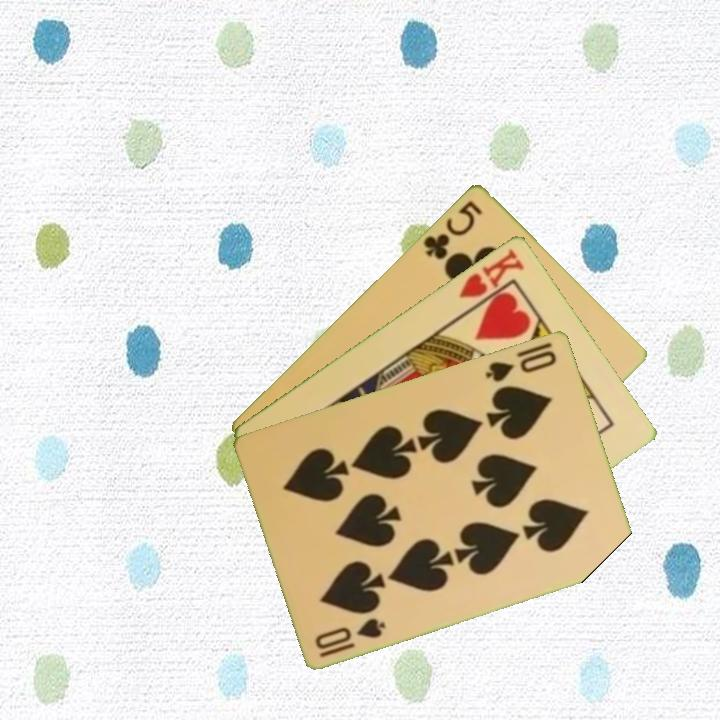10s: (482, 338, 560, 385), (311, 614, 389, 660)
5c: (420, 196, 486, 262)
Kh: (455, 244, 527, 314)
